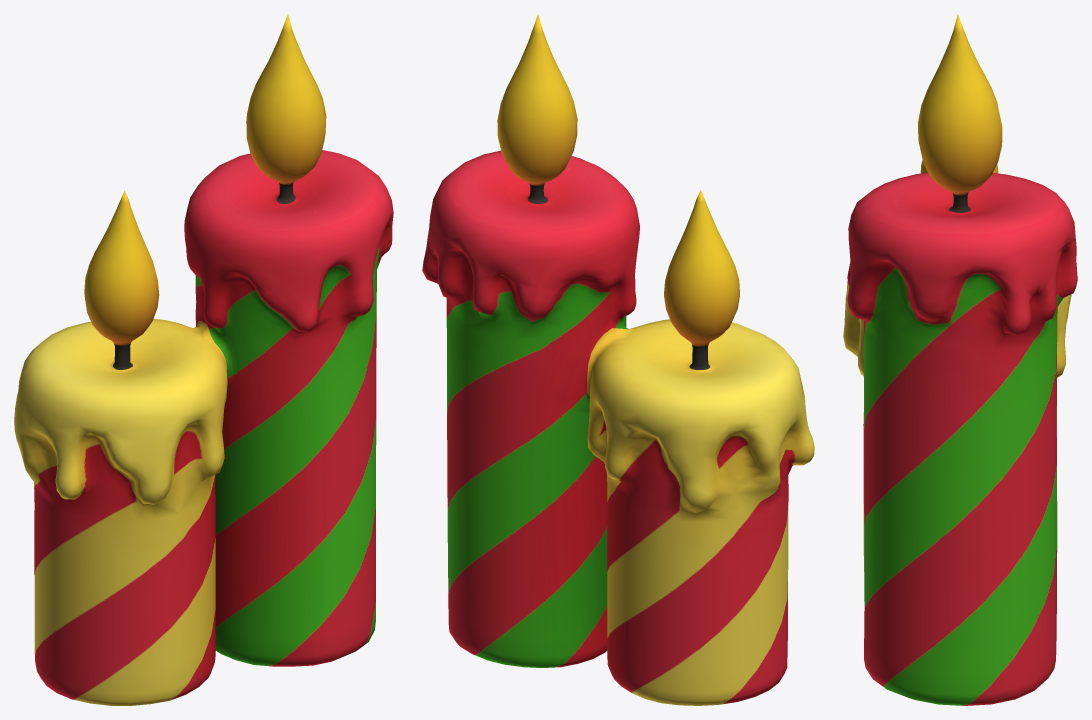
File: qizi_07.FBX
3 renders of one model, left to right at view 1: azimuth 30°, elevation 25°; view 2: azimuth 150°, elevation 25°; view 3: azimuth 270°, elevation 25°, orthographic. The views are drawn at different scales.
Visible parts, largest first — view 1: qizi_07; view 2: qizi_07; view 3: qizi_07.
Part boxes in pixels (x1=…): qizi_07: x1=14, y1=14, x2=393, y2=705; qizi_07: x1=422, y1=14, x2=814, y2=705; qizi_07: x1=843, y1=14, x2=1077, y2=705.
Bounding box in the file's own units: 60.8 × 104 × 33.69.
1 material, 1 textured.
